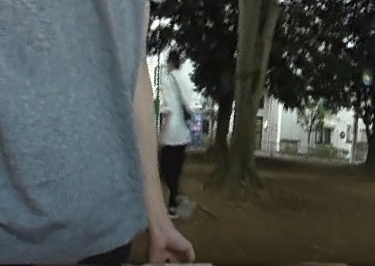person: (155, 46, 201, 216)
